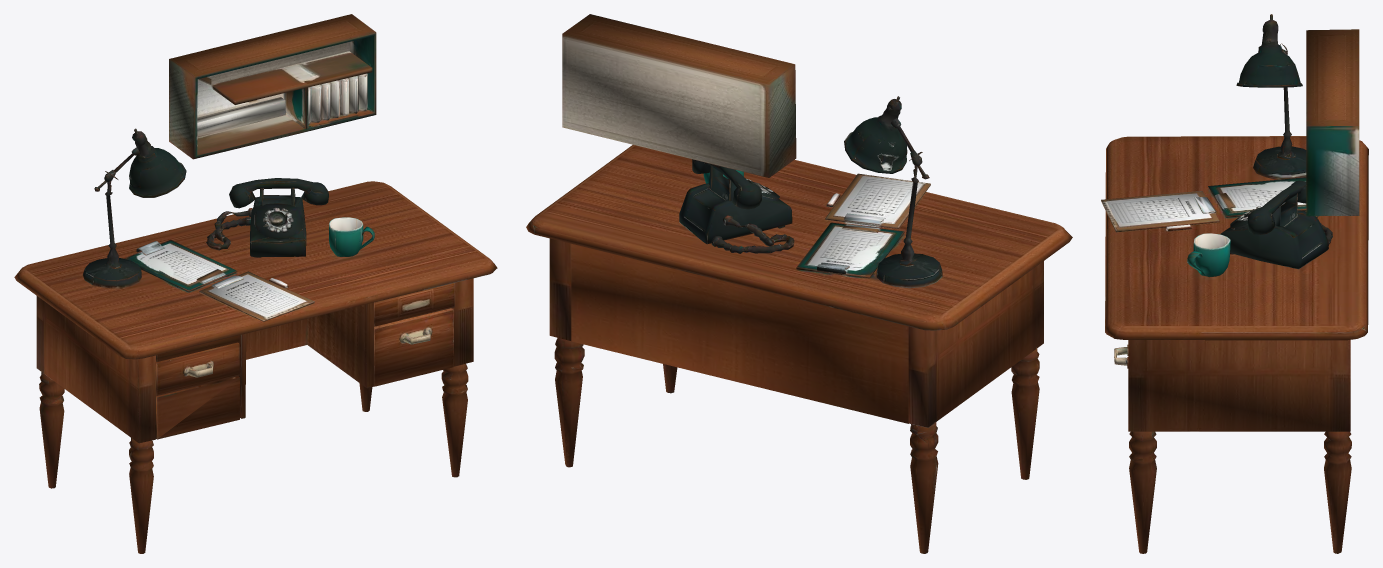
File: guard_desk.glb
The picture shows the model from 3 angles, left to right: view 1: azimuth 30°, elevation 25°; view 2: azimuth 150°, elevation 25°; view 3: azimuth 270°, elevation 25°; orthographic projection. The views are drawn at different scales.
Size of the model in its own units: 1.5 by 1.49 by 0.8506.
Materials: 1 (1 with a texture image).
